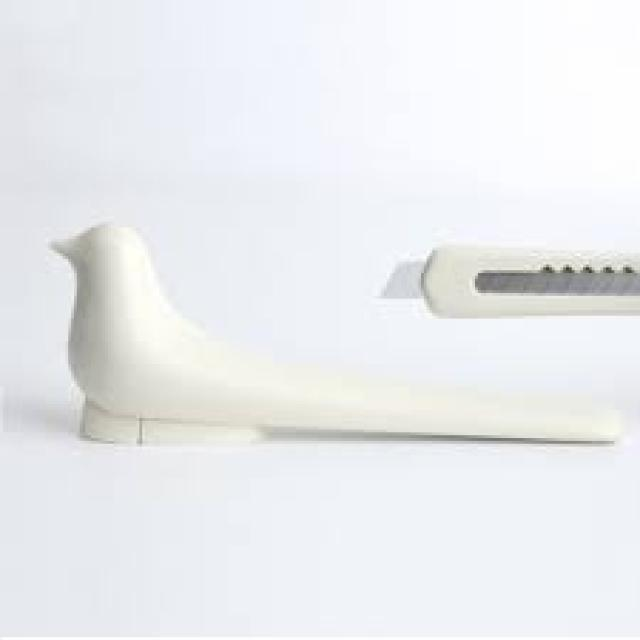cutter: (374, 228, 640, 321)
